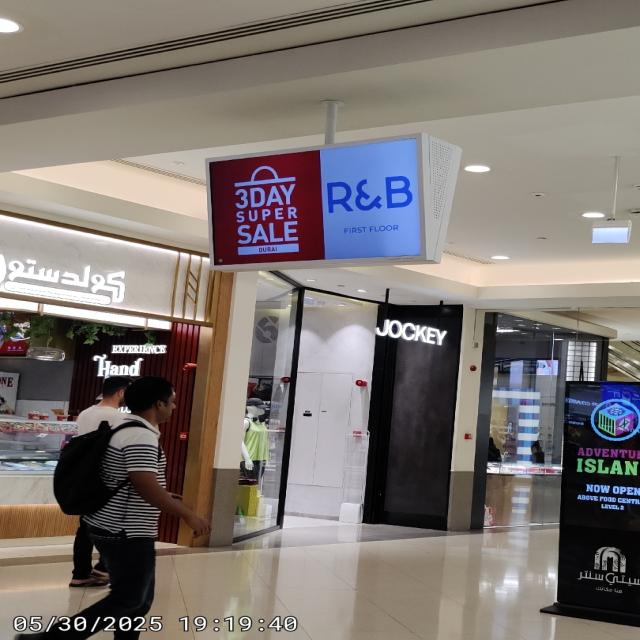digital-board: (201, 137, 432, 271)
